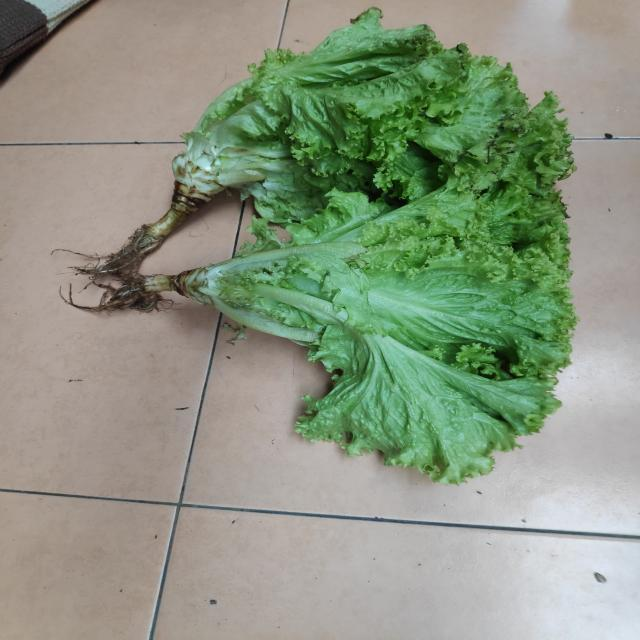Lettuce-Ready-to-Harvest: (181, 95, 576, 482), (174, 9, 531, 248)
